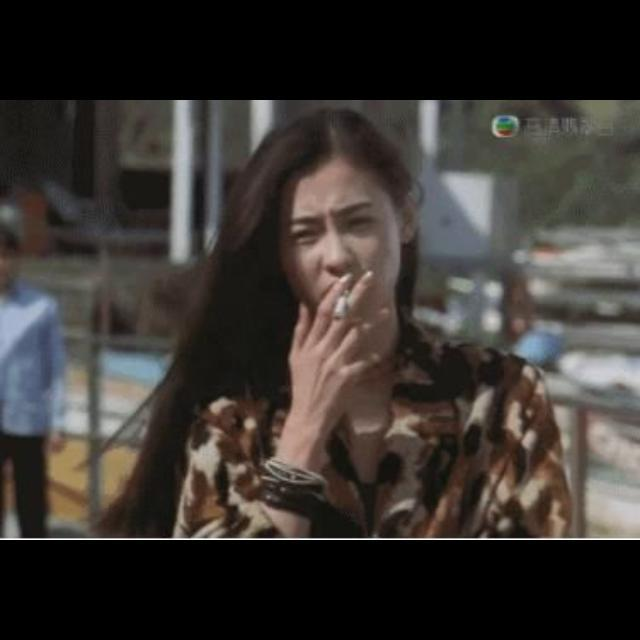rokok: (334, 296, 348, 320)
